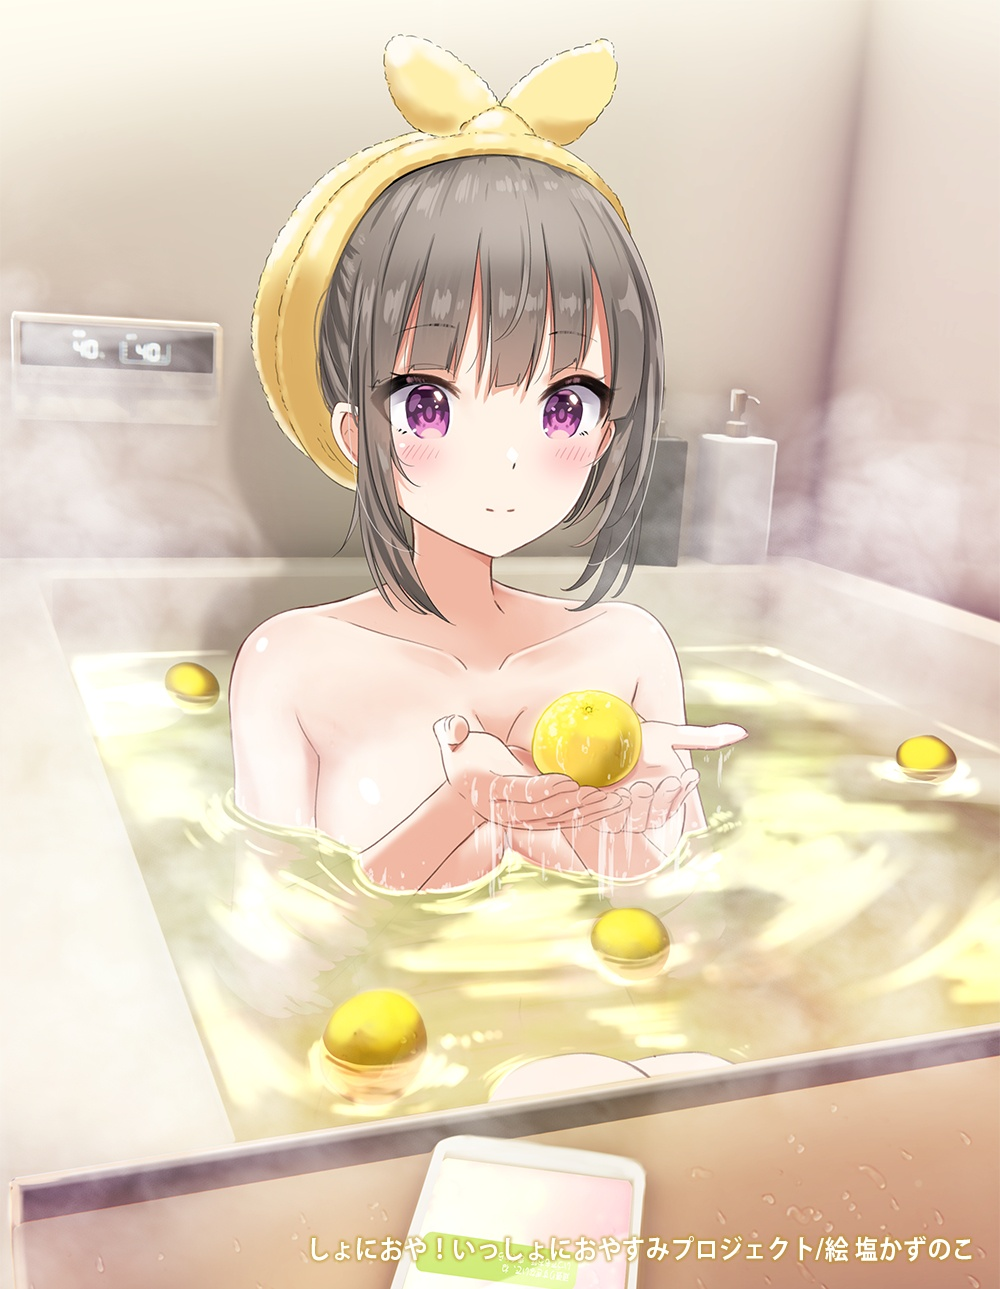纸片人正脸: (248, 79, 667, 577)
